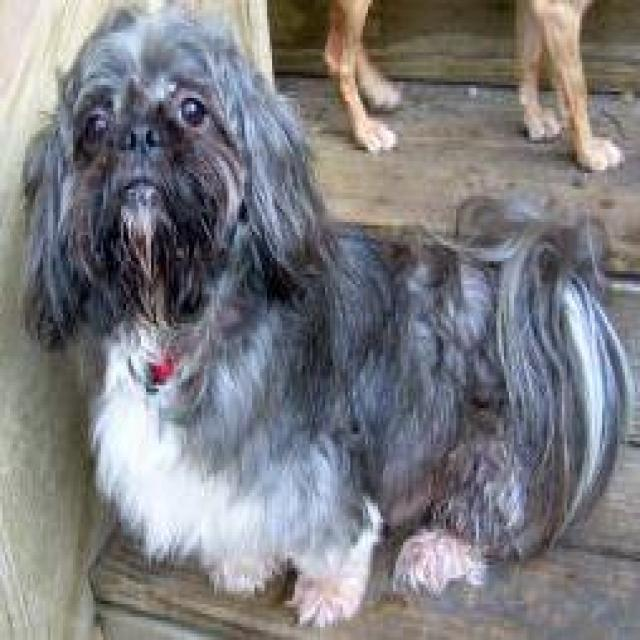dog: (17, 0, 635, 633)
